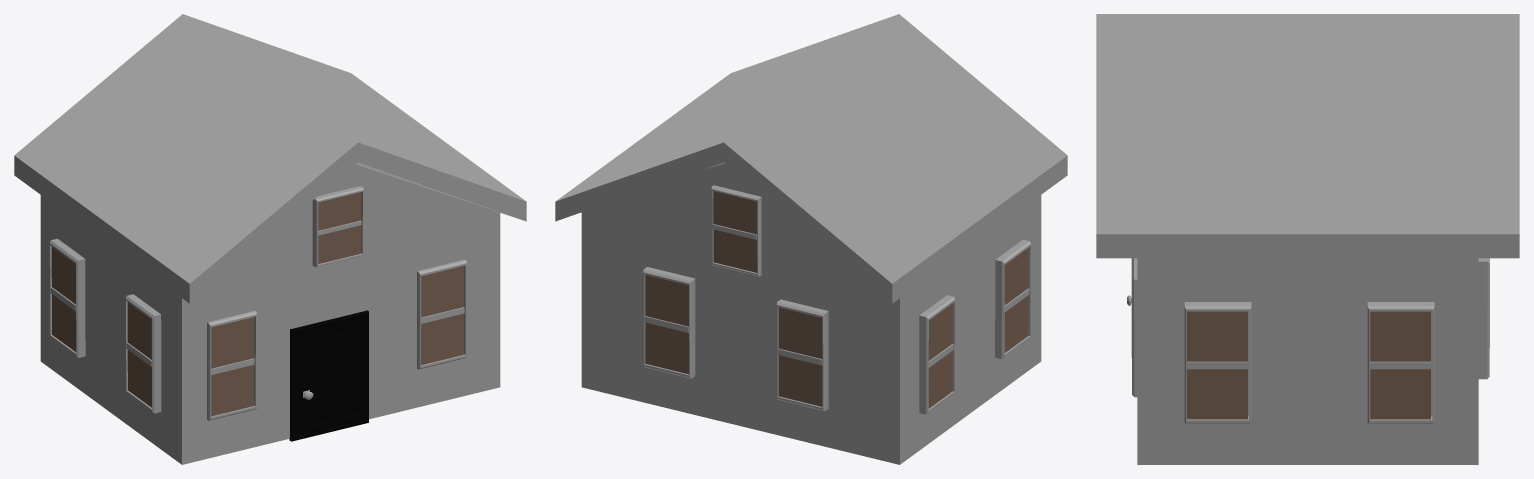
The model's file is Farmhouse3.fbx.
3 views of the same model, side by side, from view 1: azimuth 30°, elevation 25°; view 2: azimuth 150°, elevation 25°; view 3: azimuth 270°, elevation 25° (orthographic). The views are drawn at different scales.
Parts seen in each view (by area): view 1: pCube140, pSphere21, polySurface420, polySurface421, polySurface428, polySurface429, polySurface422; view 2: pCube140, polySurface425, polySurface426, polySurface427, polySurface429, polySurface428; view 3: pCube140, polySurface424, polySurface423, polySurface425, polySurface421.
Boxes of the visible parts, x1,y1,x2,y2 form: pCube140: (14,14,526,464); pSphere21: (289,310,368,441); polySurface420: (207,310,256,420); polySurface421: (417,259,466,369); polySurface428: (125,294,161,413); polySurface429: (49,238,85,357); polySurface422: (312,186,363,267); pCube140: (555,14,1067,464); polySurface425: (643,267,695,378); polySurface426: (776,299,828,411); polySurface427: (711,185,761,276); polySurface429: (919,295,954,414); polySurface428: (995,239,1030,358); pCube140: (1096,14,1519,464); polySurface424: (1367,302,1434,423); polySurface423: (1184,302,1251,423); polySurface425: (1478,258,1489,379); polySurface421: (1131,258,1137,397).
Size of the model in its own units: 60.2 by 50.49 by 53.88.
